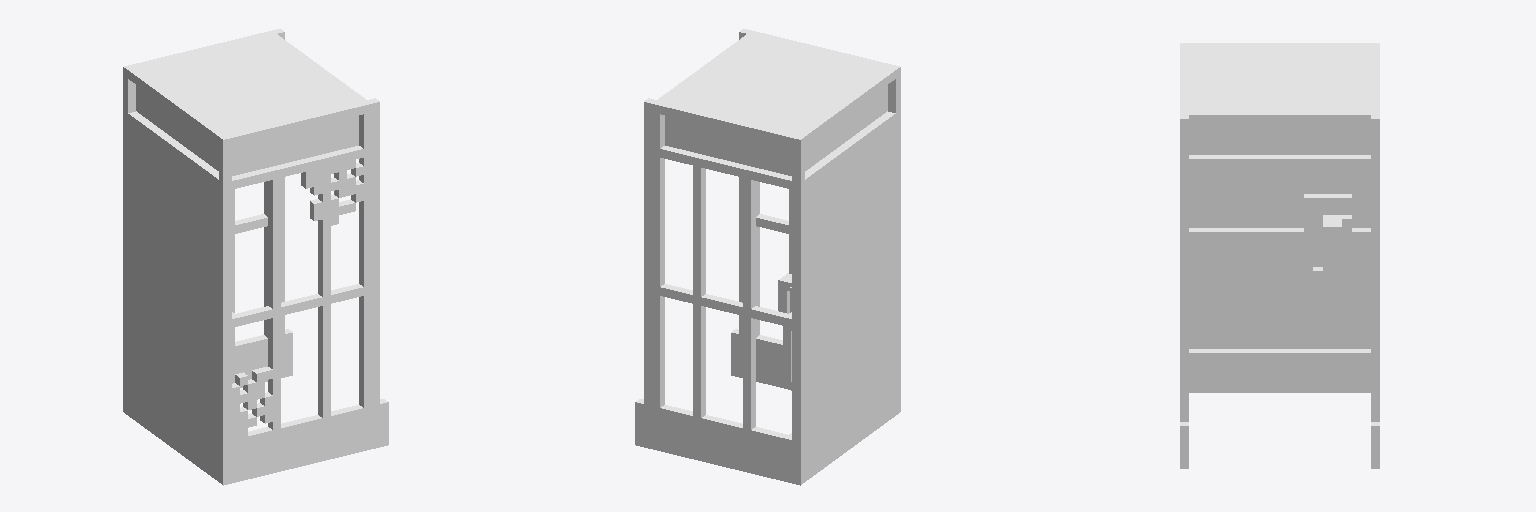
File: Shop-2-PhoneCabin.obj
3 views of the same model, side by side, from view 1: azimuth 30°, elevation 25°; view 2: azimuth 150°, elevation 25°; view 3: azimuth 270°, elevation 25° (orthographic).
Visible parts, largest first — view 1: PhoneCabin; view 2: PhoneCabin; view 3: PhoneCabin.
Part boxes in pixels (x1,y1,x2,y2): PhoneCabin: (123,29,388,485); PhoneCabin: (635,29,900,485); PhoneCabin: (1180,43,1379,468).
Size of the model in its own units: 2 by 4 by 2.1.